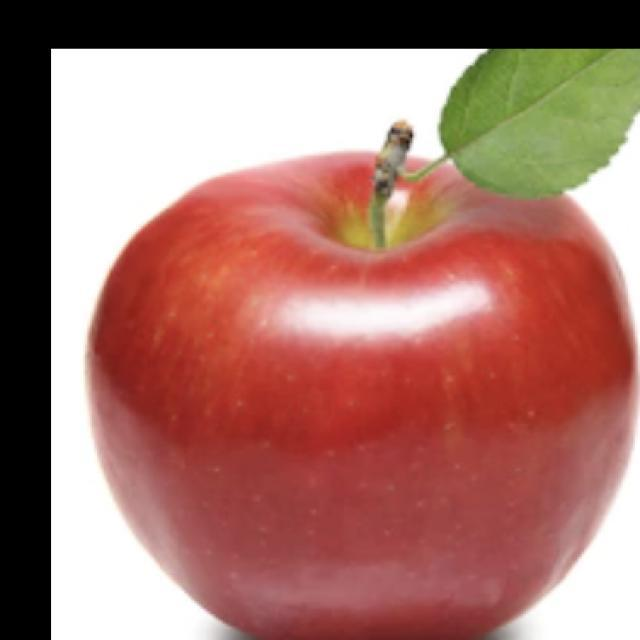Fresh Apple: (82, 140, 640, 640)
